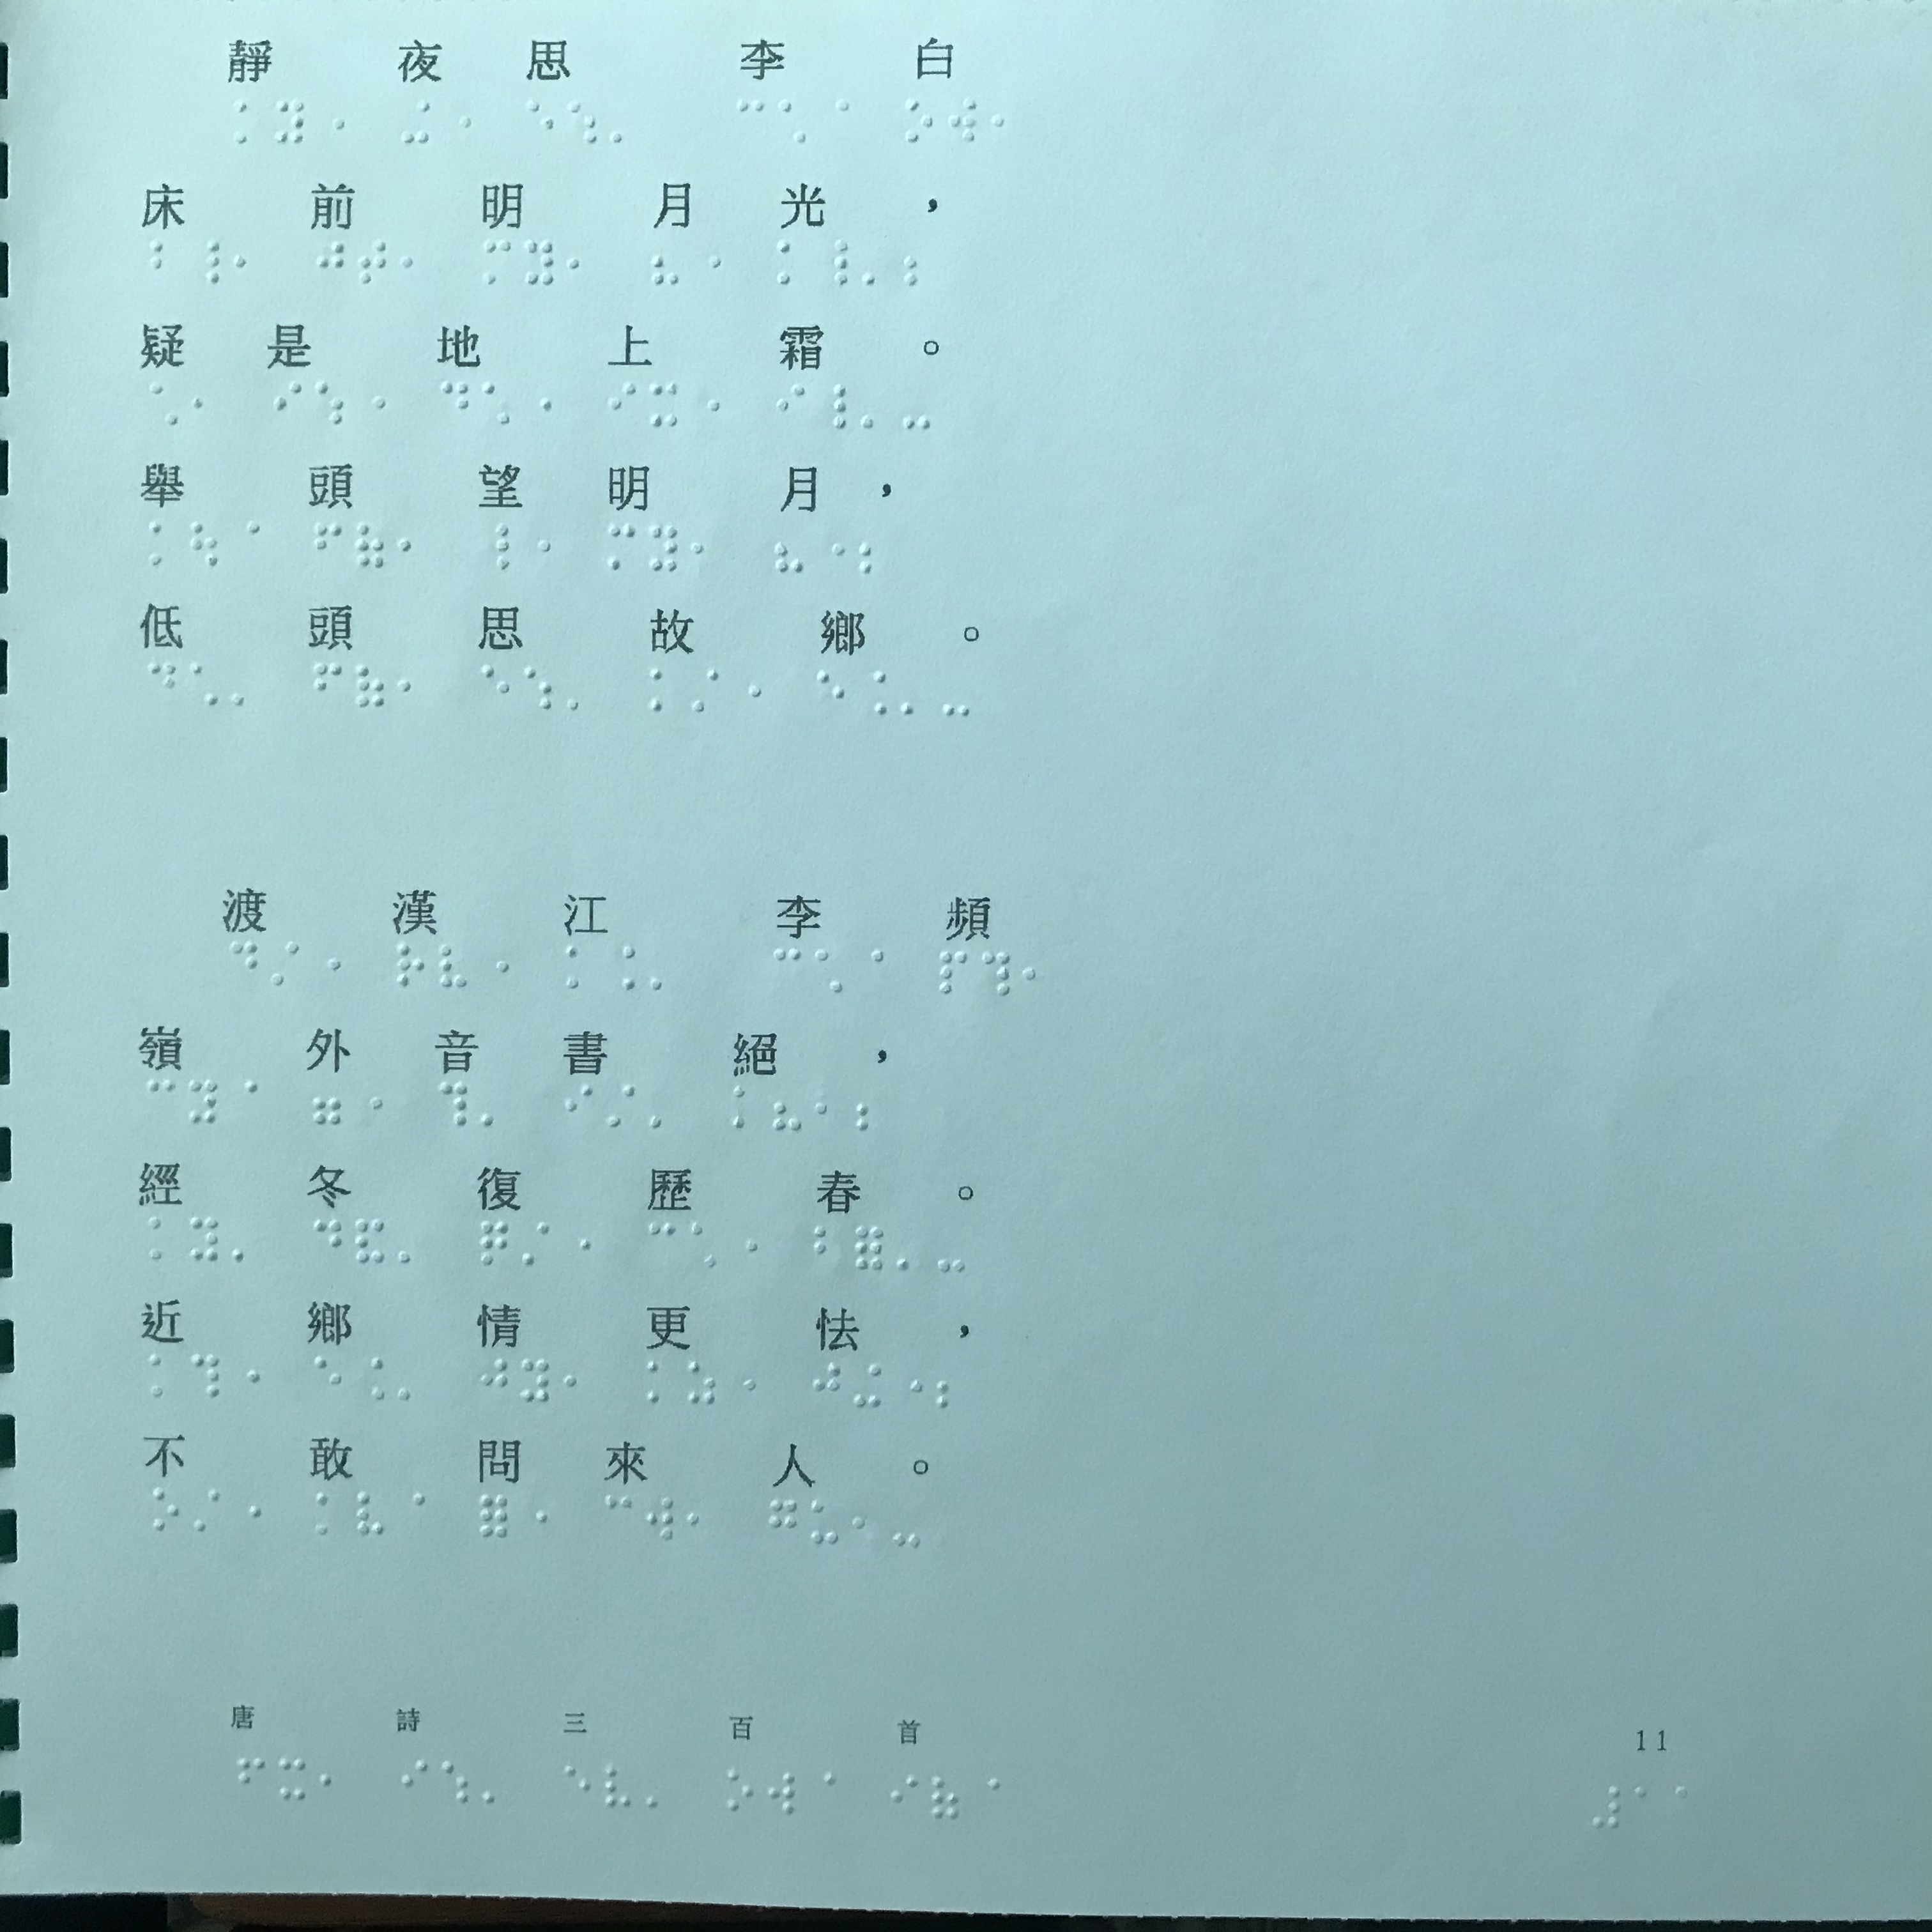Braille: (646, 525, 679, 579), (186, 1076, 221, 1125), (479, 522, 511, 577), (766, 1767, 798, 1821), (736, 96, 770, 145), (819, 239, 853, 288), (149, 1352, 182, 1401), (400, 97, 432, 149), (773, 524, 805, 575), (856, 525, 888, 577), (856, 669, 888, 720), (938, 1226, 970, 1277), (929, 1773, 961, 1824), (1591, 1782, 1622, 1833), (311, 1217, 345, 1265), (476, 1219, 510, 1267), (354, 522, 384, 575), (948, 96, 980, 145), (605, 524, 637, 573), (352, 1081, 384, 1131), (771, 1083, 803, 1132), (853, 1362, 885, 1412), (276, 94, 304, 149), (441, 939, 469, 994), (810, 1495, 839, 1550), (780, 96, 810, 147), (651, 239, 681, 290), (649, 380, 679, 432), (814, 524, 844, 575), (607, 943, 637, 994), (982, 948, 1012, 1000), (278, 1753, 308, 1805), (819, 96, 851, 143), (149, 239, 180, 287), (690, 667, 722, 715), (439, 1081, 471, 1129), (895, 1502, 927, 1550), (228, 1076, 257, 1129), (442, 1757, 471, 1810), (904, 97, 934, 147), (483, 237, 513, 287), (527, 239, 557, 288), (605, 380, 635, 430), (816, 382, 846, 432), (313, 522, 343, 571), (354, 662, 384, 711), (395, 941, 425, 991), (188, 1215, 218, 1265), (768, 1497, 798, 1546), (971, 1775, 1001, 1824), (1672, 1782, 1702, 1831), (234, 101, 265, 147), (525, 96, 554, 147), (317, 379, 345, 430), (483, 662, 511, 713), (817, 669, 846, 720), (899, 667, 927, 718), (356, 1215, 384, 1267), (479, 1491, 508, 1543), (563, 1760, 591, 1812), (991, 99, 1021, 147), (191, 239, 221, 287), (906, 239, 936, 287), (692, 384, 722, 432), (731, 667, 761, 715), (313, 1081, 343, 1129), (479, 1357, 510, 1405), (520, 1357, 550, 1405), (814, 1362, 844, 1410), (938, 1364, 968, 1412), (191, 1486, 221, 1534), (644, 1495, 674, 1543), (603, 1762, 633, 1810), (315, 242, 347, 287), (483, 377, 510, 430), (904, 382, 931, 435), (145, 1077, 177, 1122), (239, 1753, 265, 1806), (888, 1775, 920, 1819), (272, 377, 301, 426), (442, 380, 471, 430), (191, 520, 219, 570), (396, 522, 425, 571), (773, 945, 801, 994), (522, 1219, 550, 1269), (195, 1352, 223, 1401), (154, 1486, 182, 1536), (1633, 1785, 1663, 1831), (692, 524, 718, 575), (651, 943, 678, 994), (232, 239, 260, 287), (357, 239, 386, 287), (778, 239, 807, 287), (150, 380, 179, 428), (356, 380, 384, 428), (522, 380, 550, 428), (149, 520, 177, 568), (522, 525, 550, 573), (941, 671, 970, 718), (564, 943, 593, 991), (817, 948, 846, 996), (607, 1081, 635, 1129), (563, 1224, 591, 1272), (729, 1223, 757, 1270), (814, 1223, 842, 1270), (856, 1224, 885, 1272), (564, 1357, 593, 1405), (232, 1488, 260, 1536), (400, 1755, 428, 1803), (725, 1764, 754, 1812), (605, 1495, 635, 1539), (778, 380, 805, 430), (315, 658, 341, 708), (398, 663, 425, 713), (271, 936, 297, 985), (731, 1081, 757, 1131), (814, 1083, 840, 1132), (692, 1223, 718, 1272), (357, 1490, 384, 1539), (398, 1488, 425, 1537), (853, 1500, 879, 1550), (644, 1762, 671, 1812), (439, 99, 467, 145), (234, 1355, 262, 1401), (356, 1357, 384, 1403), (648, 1357, 676, 1403), (690, 1361, 718, 1407), (570, 101, 596, 149), (566, 239, 593, 287), (230, 522, 257, 570), (191, 660, 218, 708), (651, 667, 678, 715), (230, 936, 257, 984), (648, 1083, 674, 1131), (858, 1083, 885, 1131), (149, 1214, 175, 1261), (398, 1219, 425, 1267), (398, 1357, 425, 1405), (895, 1364, 922, 1412), (810, 1769, 837, 1817), (318, 96, 343, 145), (483, 941, 508, 991), (400, 239, 426, 285), (862, 384, 888, 430), (149, 660, 175, 706), (315, 939, 341, 985), (941, 950, 968, 996), (566, 1083, 593, 1129), (315, 1355, 341, 1401), (527, 665, 552, 713), (1023, 950, 1047, 998), (685, 1495, 709, 1543), (320, 1757, 345, 1805), (610, 101, 637, 145), (694, 241, 720, 285), (230, 1219, 257, 1263), (318, 1490, 345, 1534), (648, 1224, 676, 1265), (863, 241, 888, 287), (230, 663, 255, 709), (858, 948, 883, 994), (483, 1762, 508, 1808), (731, 1364, 757, 1407), (191, 382, 216, 426), (564, 669, 589, 713), (481, 1085, 506, 1129), (522, 1495, 547, 1539), (895, 1228, 920, 1270)
